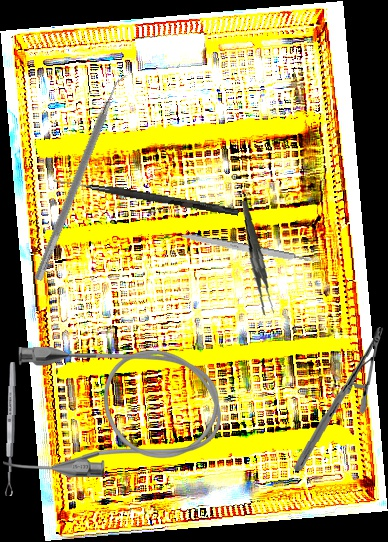Cannula: (3, 347, 221, 477)
Dressing Forceps: (230, 200, 286, 317)
Hook Surgical: (52, 177, 240, 216)
Needle Holder: (293, 324, 385, 474)
Scalpel Handle: (177, 231, 313, 266)
Spatula Surgical: (33, 70, 132, 285)
Surgical Spoon: (3, 361, 18, 497)
